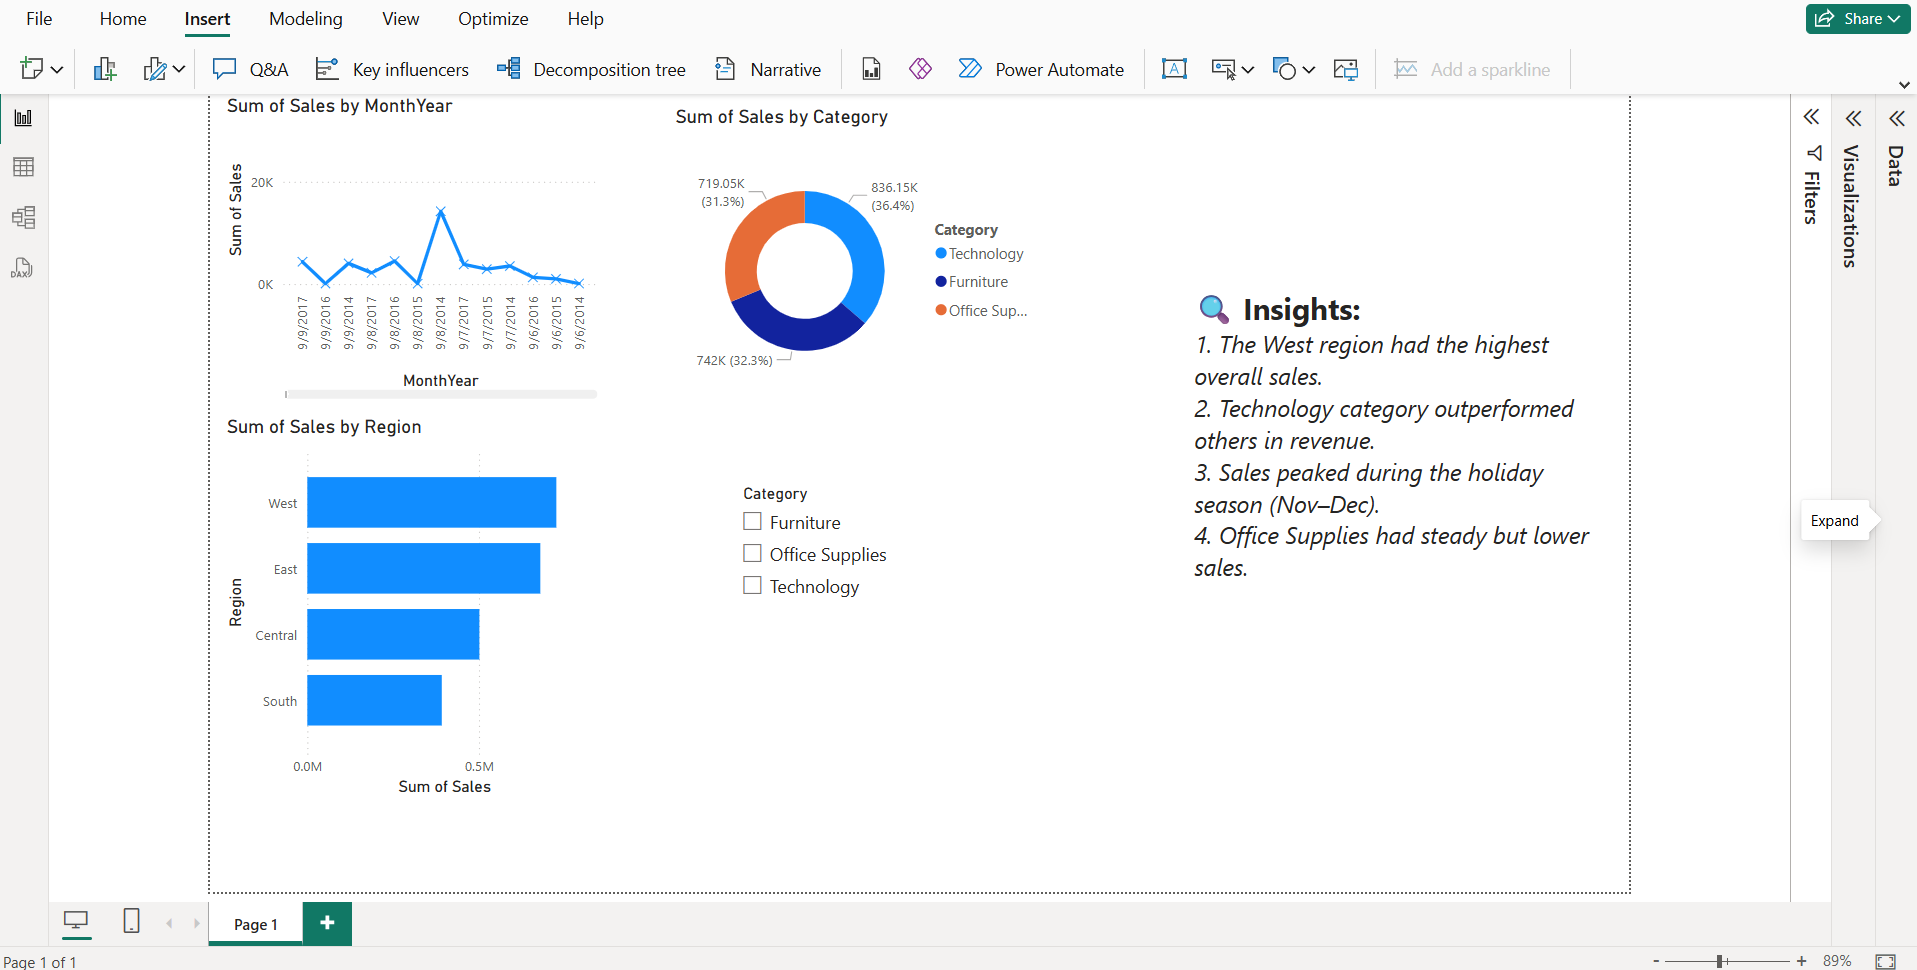

Layout of this report page (visuals, bound fields, positions):
{"tool":"powerbi","page":{"name":"Page 1","canvas":[1280,720],"ordinal":0},"visuals":[{"type":"lineChart","fields":{"Category":["Superstore (2).MonthYear"],"Y":["Sum(Superstore (2).Sales)"]},"box":[9.6,0,344.4,279.9],"z":0},{"type":"clusteredBarChart","fields":{"Y":["Sum(Superstore (2).Sales)"],"Category":["Superstore (2).Region"]},"box":[9.6,289.5,344.4,348.5],"z":1000},{"type":"donutChart","fields":{"Y":["Sum(Superstore (2).Sales)"],"Category":["Superstore (2).Category"]},"box":[414.4,9.6,344.4,279.9],"z":2000},{"type":"slicer","fields":{"Values":["Superstore (2).Category"]},"box":[467.4,347.7,344.2,134.9],"z":3000},{"type":"textbox","box":[882.6,169.8,377.9,358.1],"z":4000}]}

Visuals, with their boxes on the page's 1280x720 design canvas (x1, y1, x2, y2). These are canvas units, not pixel positions in the 1917x970 screenshot, which may show the page scaled, cropped or inside an application window:
lineChart - Superstore (2).MonthYear x Sum(Superstore (2).Sales): l=10, t=0, r=354, b=280
clusteredBarChart - Sum(Superstore (2).Sales) x Superstore (2).Region: l=10, t=290, r=354, b=638
donutChart - Sum(Superstore (2).Sales) x Superstore (2).Category: l=414, t=10, r=759, b=290
slicer - Superstore (2).Category: l=467, t=348, r=812, b=483
textbox: l=883, t=170, r=1260, b=528
